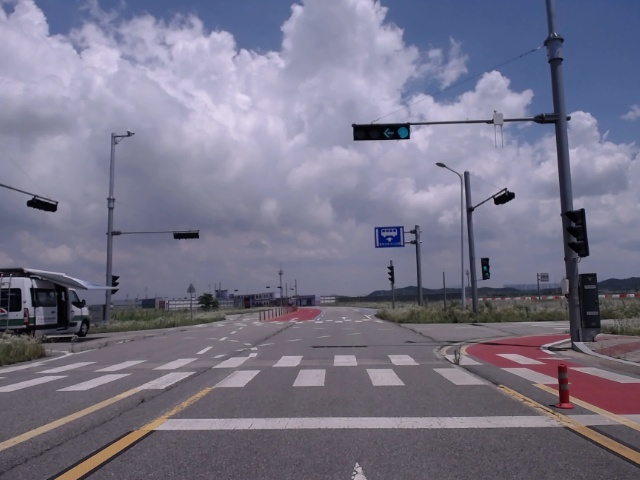all_green_4: (358, 126, 409, 139)
